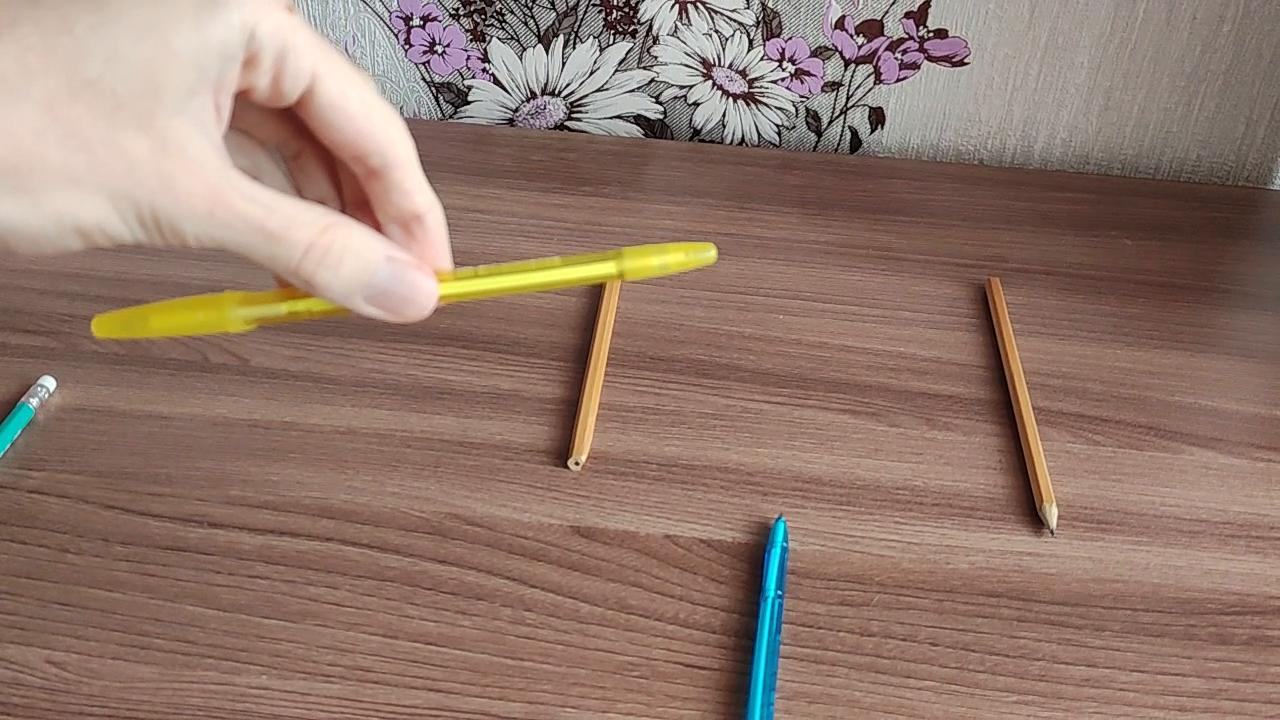pen: (88, 236, 722, 342), (744, 506, 789, 720)
pencil: (984, 275, 1061, 539), (566, 280, 625, 475), (0, 373, 62, 468)
